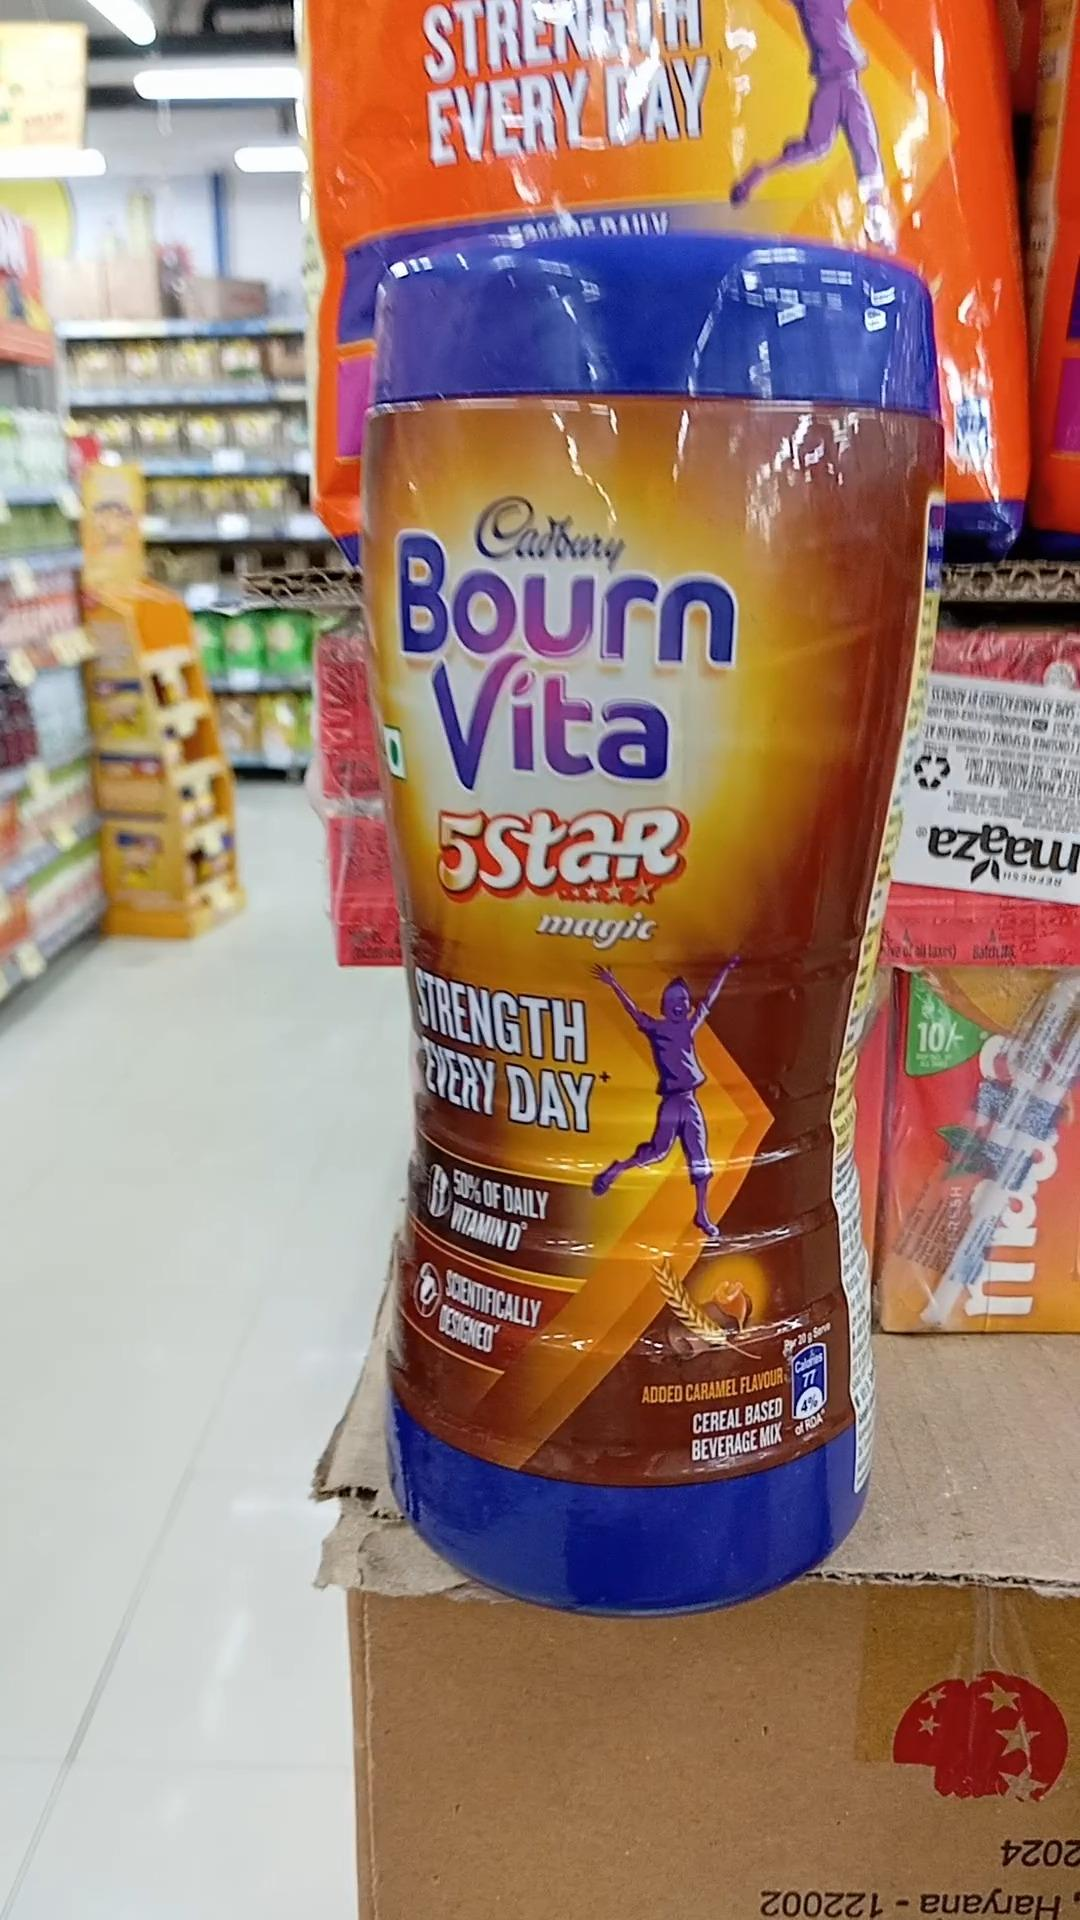BOURN_VITA_FIVE_STAR_MAGIC_500_G_JAR: (380, 223, 928, 1636)
